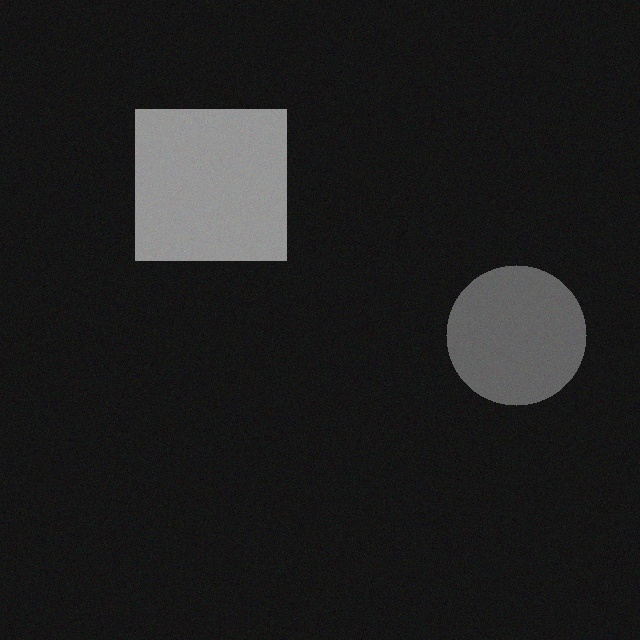circle: (457, 276, 597, 416)
square: (146, 120, 297, 271)
